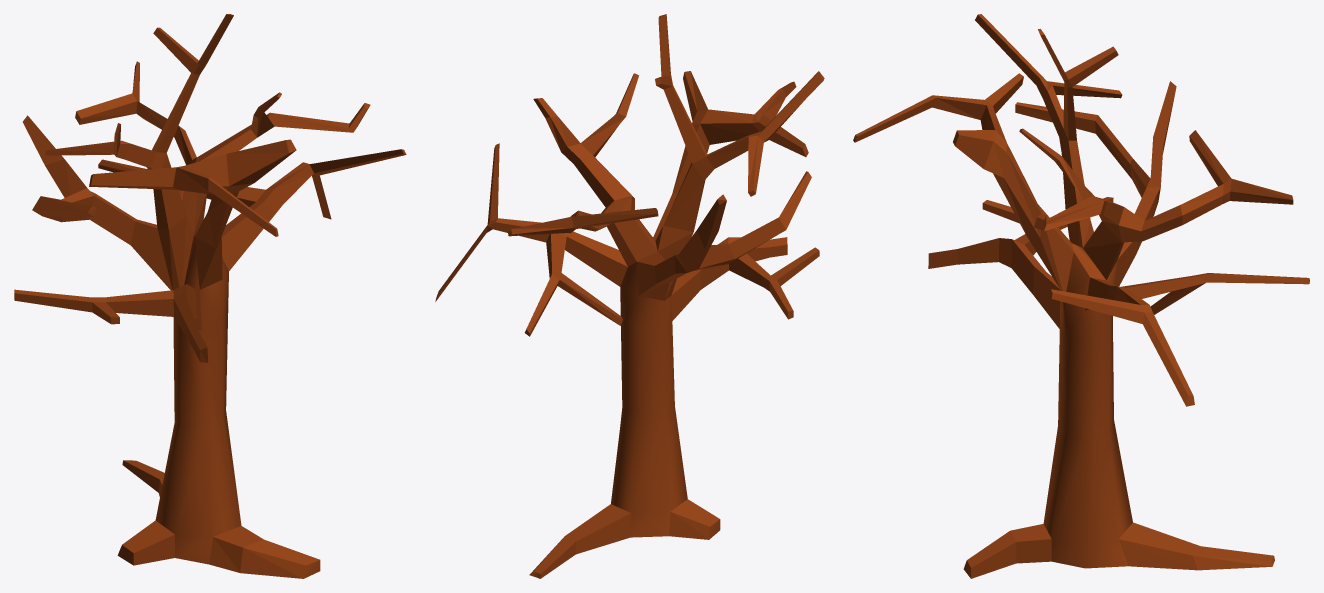
File: baum_b002.FBX
The picture shows the model from 3 angles, left to right: view 1: azimuth 30°, elevation 25°; view 2: azimuth 150°, elevation 25°; view 3: azimuth 270°, elevation 25°; orthographic projection. The views are drawn at different scales.
Visible parts, largest first — view 1: Baum_B002; view 2: Baum_B002; view 3: Baum_B002.
Part boxes in pixels (left/top/right/bottom): Baum_B002: left=14, top=14, right=406, bottom=578; Baum_B002: left=435, top=14, right=824, bottom=578; Baum_B002: left=853, top=14, right=1309, bottom=578.
Size of the model in its own units: 20.87 by 29.9 by 23.67.
